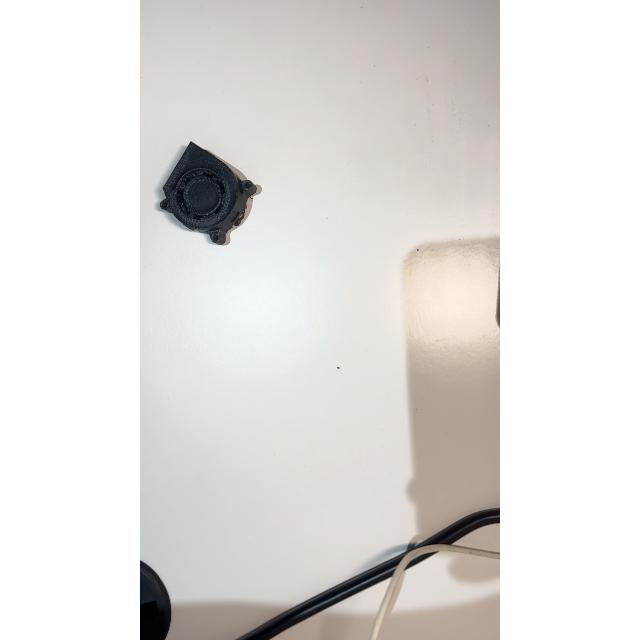Pieza_3: (156, 137, 266, 260)
